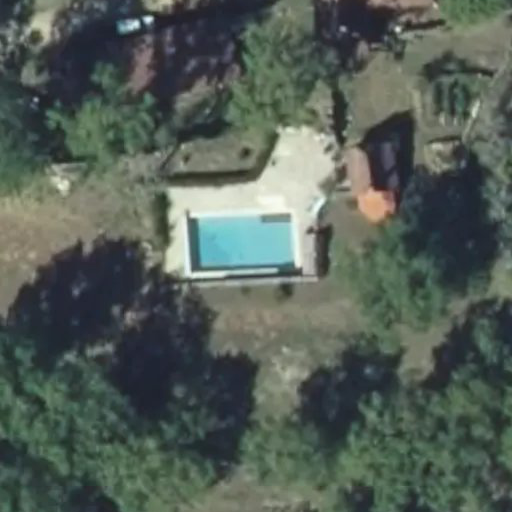pool: (195, 216, 314, 265)
